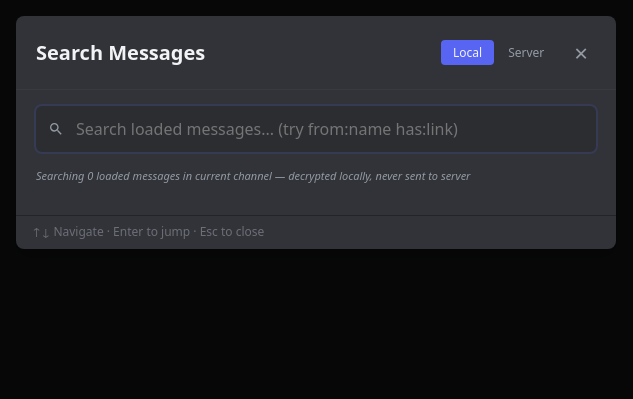
Test case: SearchOverlay › shows filter panel when Filters button is clicked
The image size is (633, 399).
Step 1. Click the button "Server" → point(526, 52), box x1=496 y1=40 x2=556 y2=65
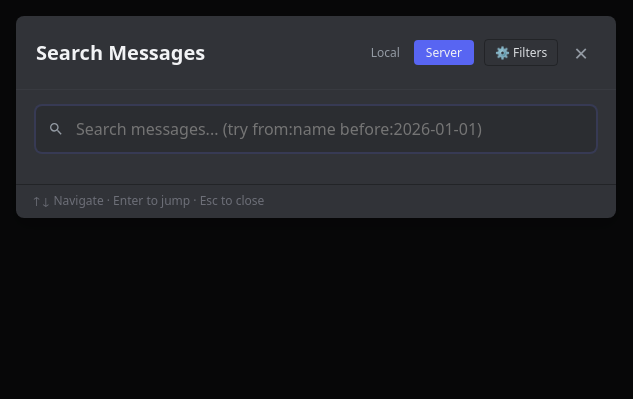
Step 2. Click the button "⚙️ Filters" → point(521, 52), box x1=484 y1=39 x2=558 y2=66
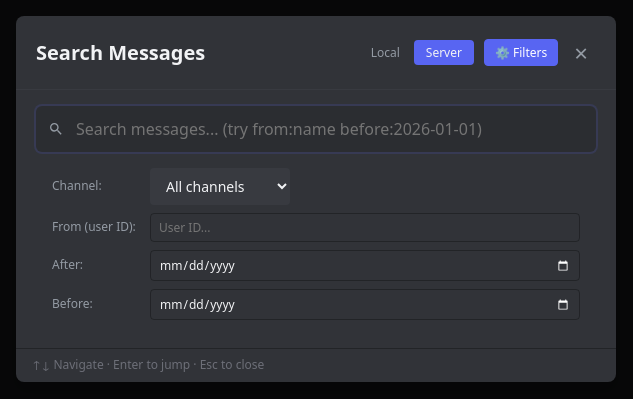
Check: the text "Channel:" is shown, box x1=52 y1=177 x2=102 y2=194
Check: the text "From (user ID):" is shown, box x1=52 y1=219 x2=142 y2=236
